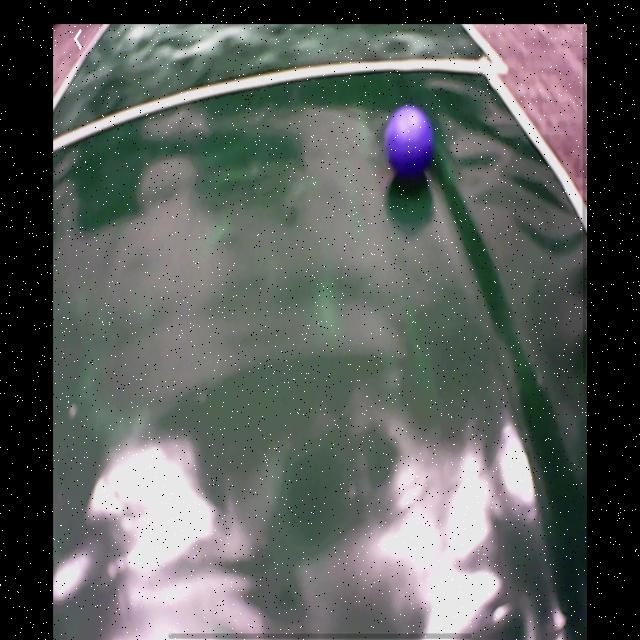ball: (385, 105, 435, 182)
